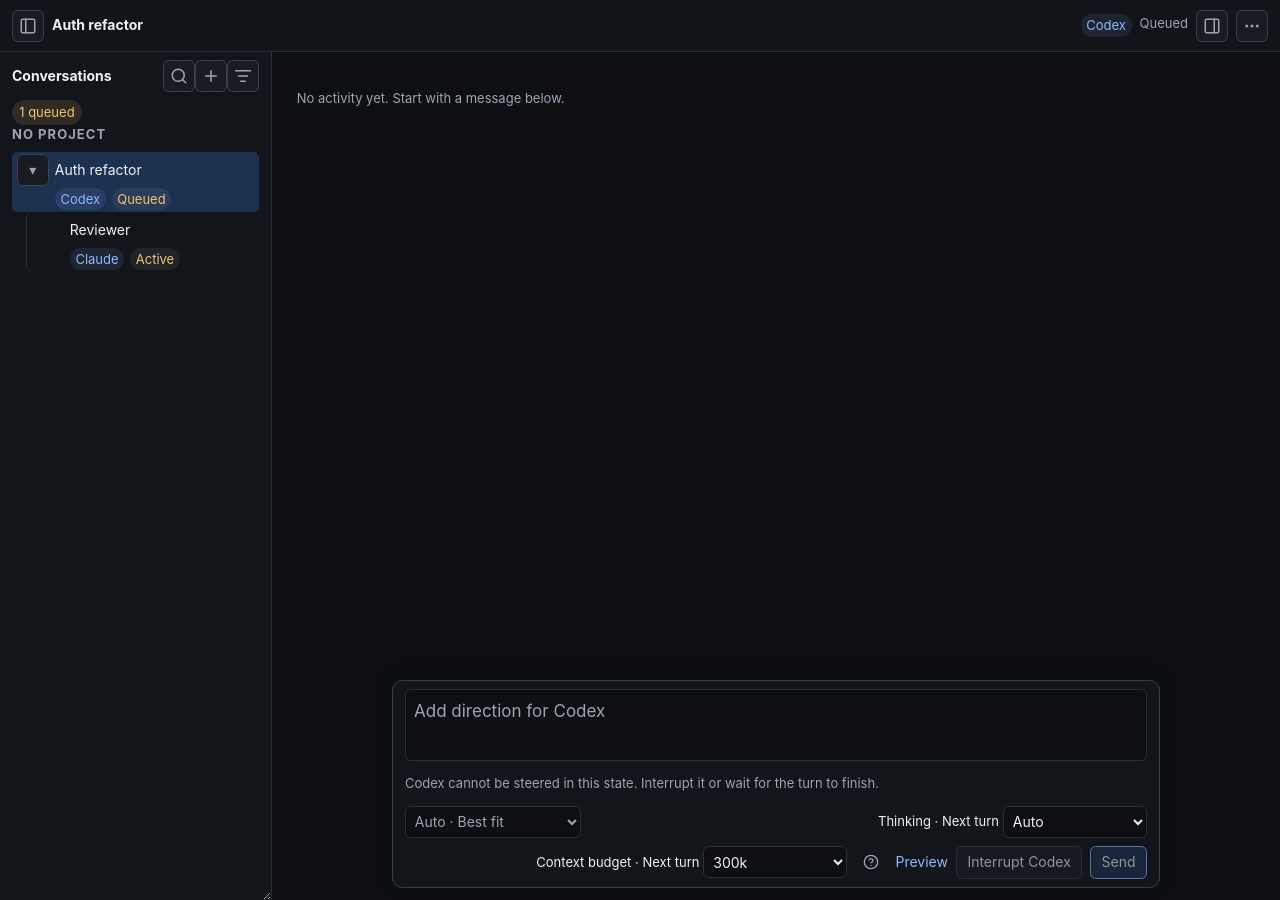
Test: compact shell › consolidates the root title and preserves actions when the sidebar closes
The width and height of the screenshot is (1280, 900).
Expected: the message reads "Queued", x1=1140 y1=16 x2=1188 y2=32
Expected: the number of buttons named "New conversation" is 1, x1=195 y1=60 x2=227 y2=92
What coordinates should you click on to do the following:
click the button named "Hide conversations"
I would click on:
 (28, 26)
Its box is x1=12 y1=10 x2=44 y2=42.
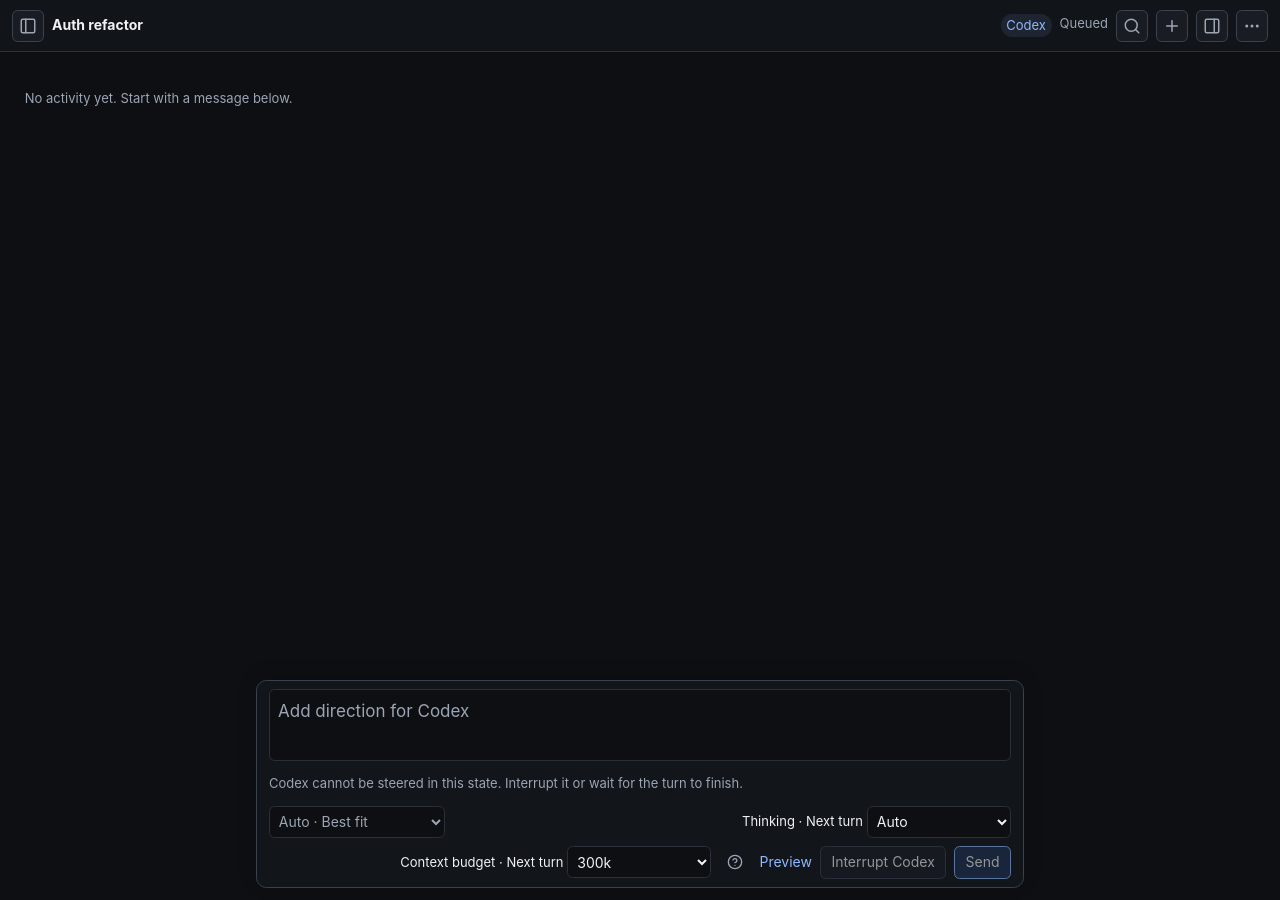
What coordinates should you click on to do the following:
click the button named "New conversation"
I would click on:
 (1172, 26)
Its box is x1=1156 y1=10 x2=1188 y2=42.
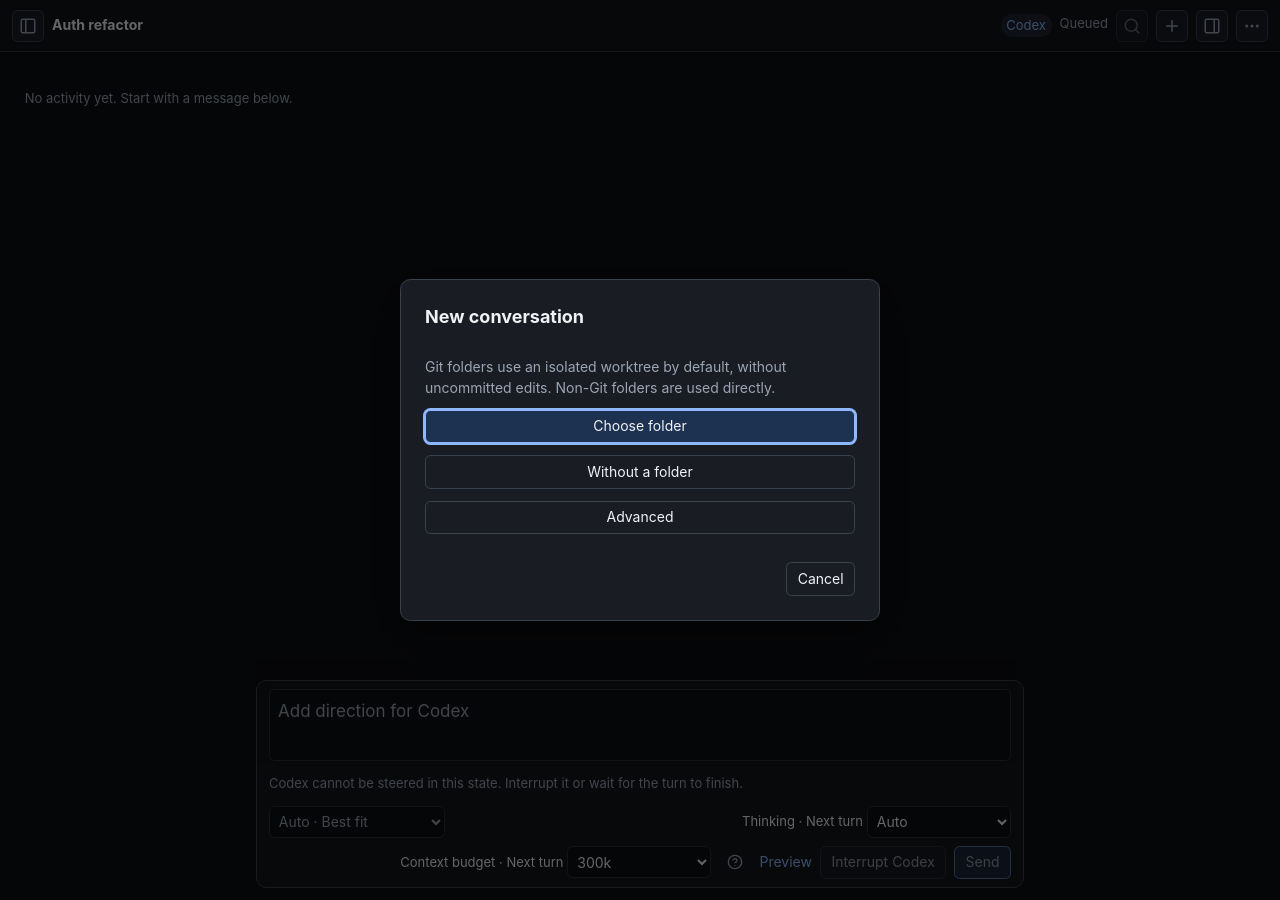
What coordinates should you click on to do the following:
click the button "Cancel"
I would click on:
 (821, 579)
Its box is x1=786 y1=562 x2=855 y2=596.
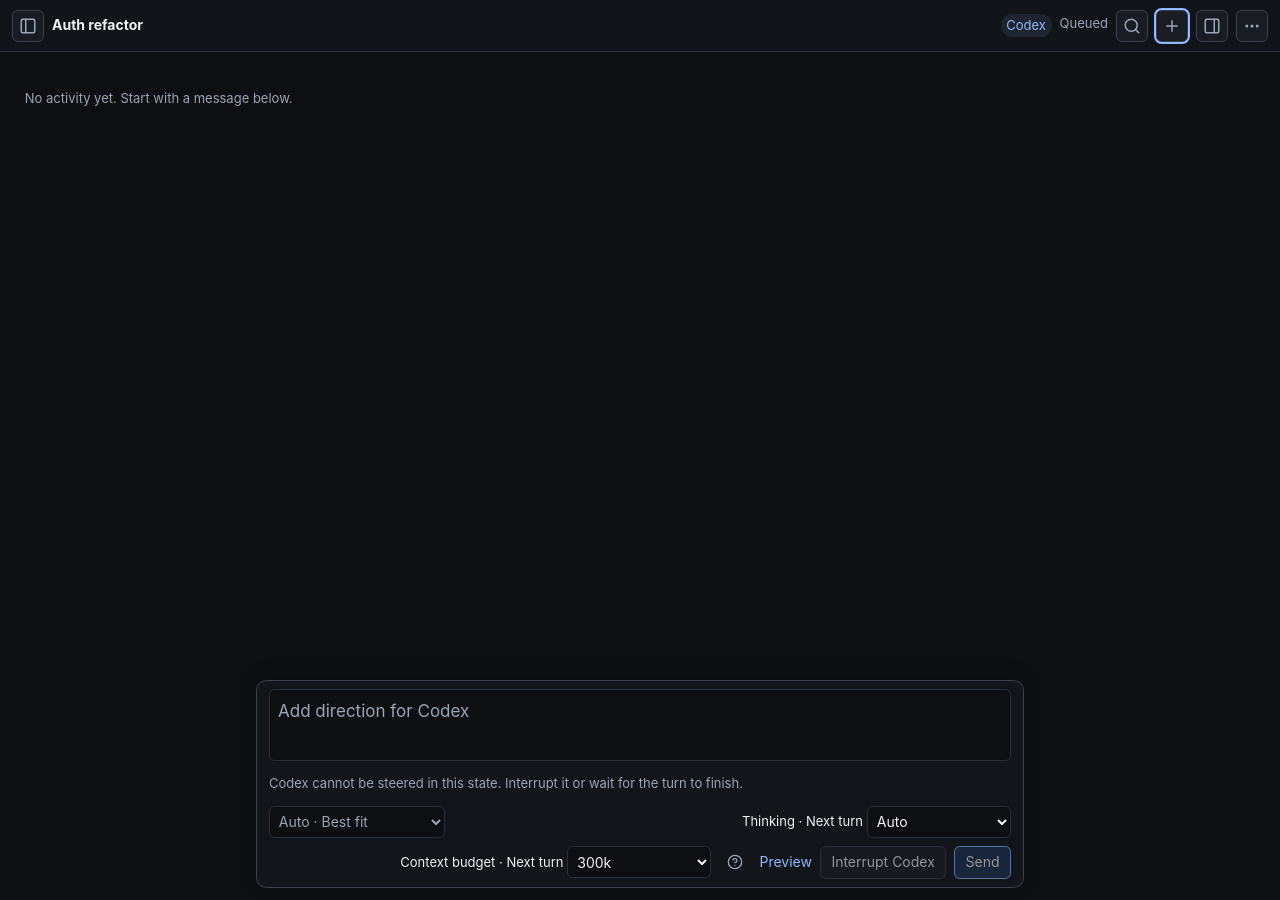
What coordinates should you click on to do the following:
click the button named "Search"
I would click on:
 (1132, 26)
Its box is x1=1116 y1=10 x2=1148 y2=42.
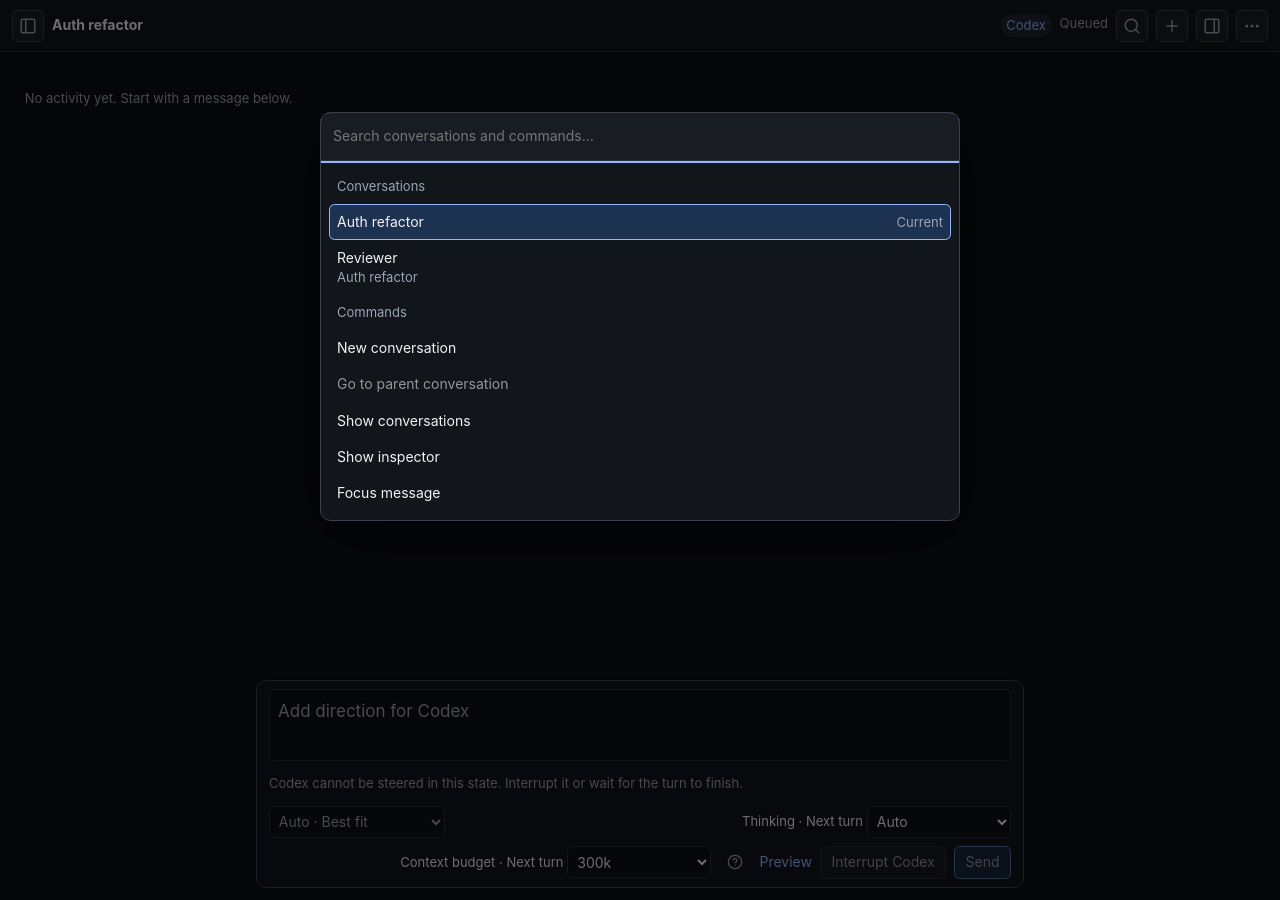
Now the dropdown labelled "Search conversations and commands" is shown, box x1=321 y1=113 x2=959 y2=161
